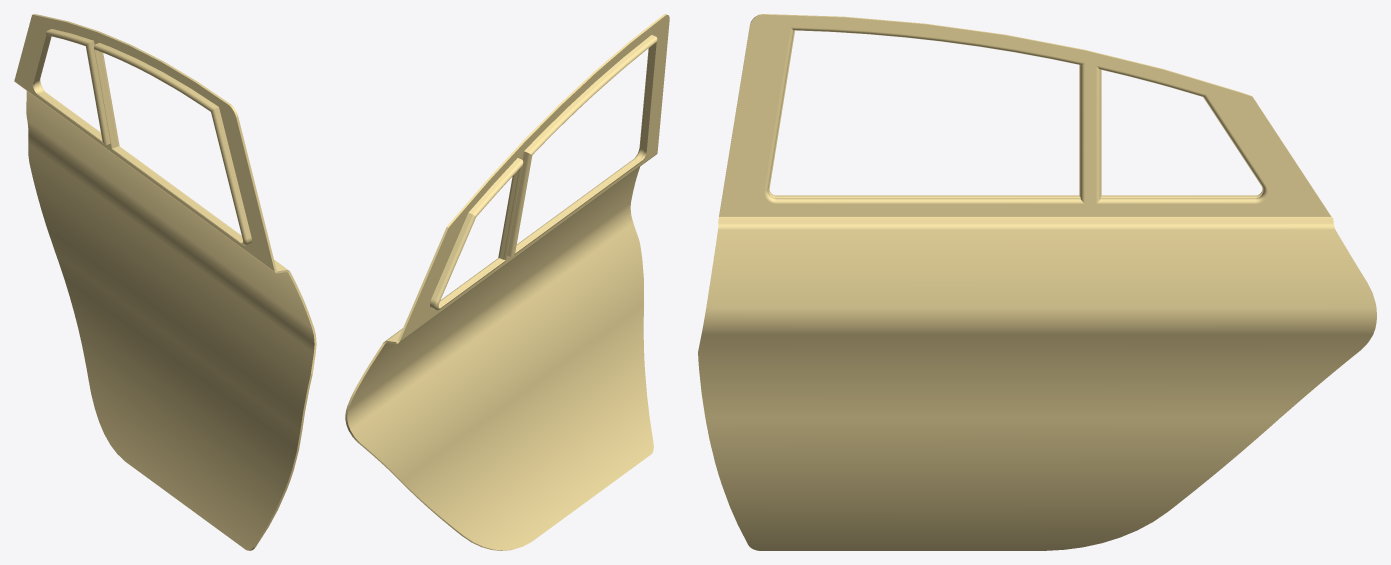
Rendered from cardoor.glb.
3 views of the same model, side by side, from view 1: azimuth 30°, elevation 25°; view 2: azimuth 150°, elevation 25°; view 3: azimuth 270°, elevation 25° (orthographic). The views are drawn at different scales.
Parts seen in each view (by area): view 1: Part1 - Car Door; view 2: Part1 - Car Door; view 3: Part1 - Car Door.
Boxes of the visible parts, x1,y1,x2,y2 form: Part1 - Car Door: (14,14,316,550); Part1 - Car Door: (345,14,669,550); Part1 - Car Door: (698,14,1376,550).
Bounding box in the file's own units: 0.0653 × 0.4186 × 0.4883.
